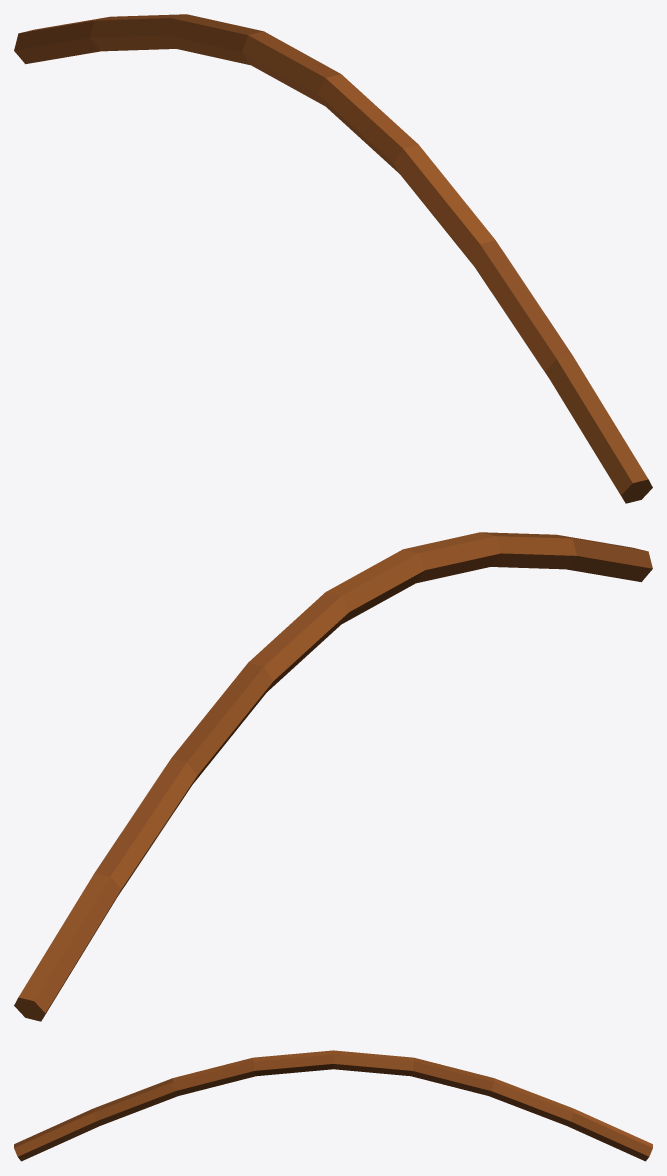
File: D37_Bridge_Arch_Rail_4m.fbx
3 views of the same model, one above another, from view 1: azimuth 30°, elevation 25°; view 2: azimuth 150°, elevation 25°; view 3: azimuth 270°, elevation 25° (orthographic). The views are drawn at different scales.
Visible parts, largest first — view 1: D37_Bridge_Arch_Rail_4m; view 2: D37_Bridge_Arch_Rail_4m; view 3: D37_Bridge_Arch_Rail_4m.
Boxes of the visible parts, x1,y1,x2,y2 form: D37_Bridge_Arch_Rail_4m: (14, 14, 652, 503); D37_Bridge_Arch_Rail_4m: (14, 532, 652, 1021); D37_Bridge_Arch_Rail_4m: (14, 1050, 652, 1161).
Bounding box in the file's own units: 0.12 × 0.7485 × 4.05.
1 material, 1 textured.
